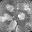people: (8, 20, 17, 31), (17, 12, 26, 21), (5, 4, 15, 12), (0, 15, 8, 22), (6, 14, 14, 21)
